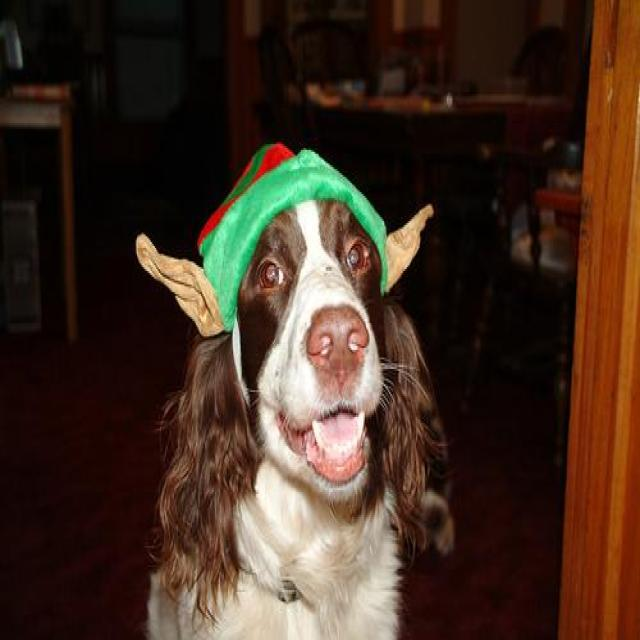adult_dog: (150, 193, 443, 640)
